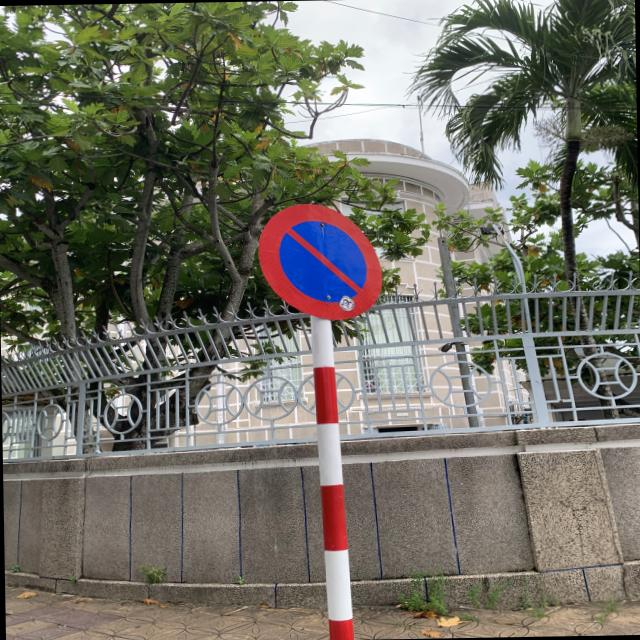Cam_Dau_Xe: (257, 202, 383, 321)
